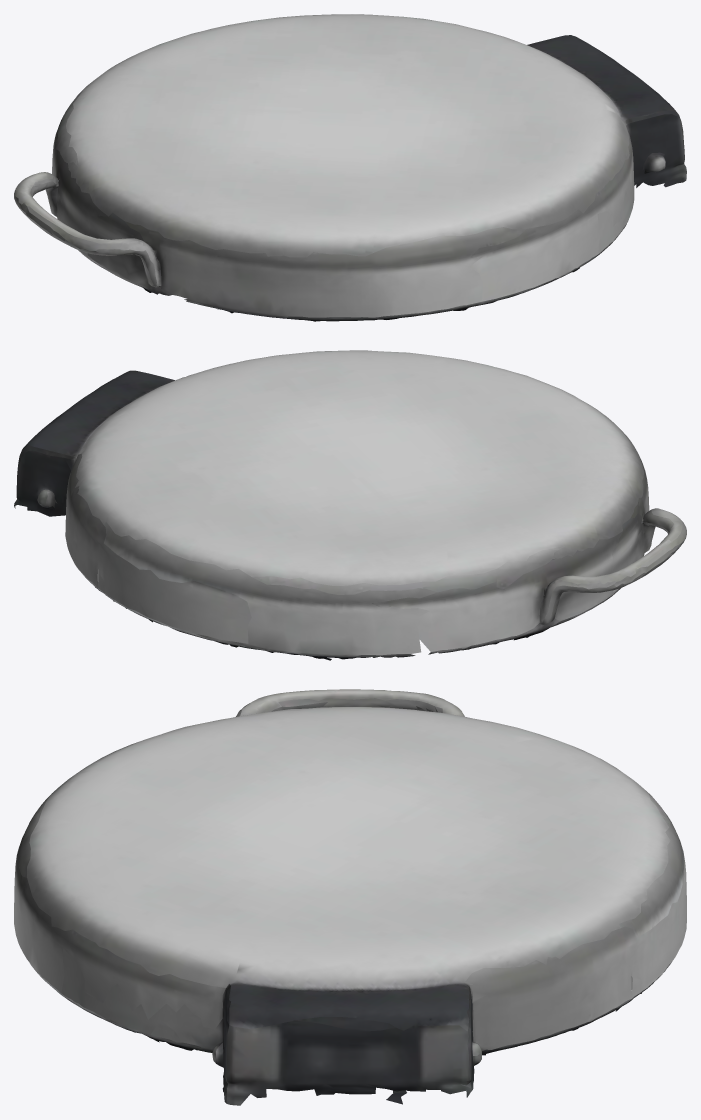
Rendered from lid.glb.
The picture shows the model from 3 angles, top to bottom: view 1: azimuth 30°, elevation 25°; view 2: azimuth 150°, elevation 25°; view 3: azimuth 270°, elevation 25°; orthographic projection. The views are drawn at different scales.
Visible parts, largest first — view 1: world; view 2: world; view 3: world.
Boxes of the visible parts, x1,y1,x2,y2 form: world: (14,14,686,321); world: (14,350,686,660); world: (14,689,686,1105).
Size of the model in its own units: 0.3221 by 0.0474 by 0.2697.
Materials: 1 (1 with a texture image).
